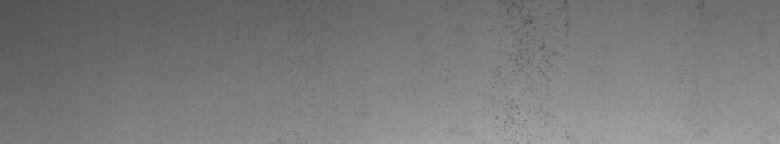ib: (494, 4, 569, 127)
